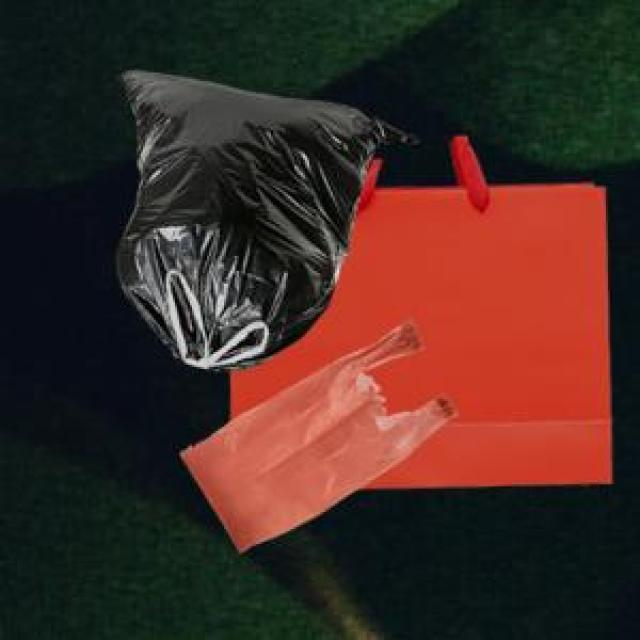miscellaneous trash: (113, 66, 414, 367)
paper: (226, 132, 608, 484)
